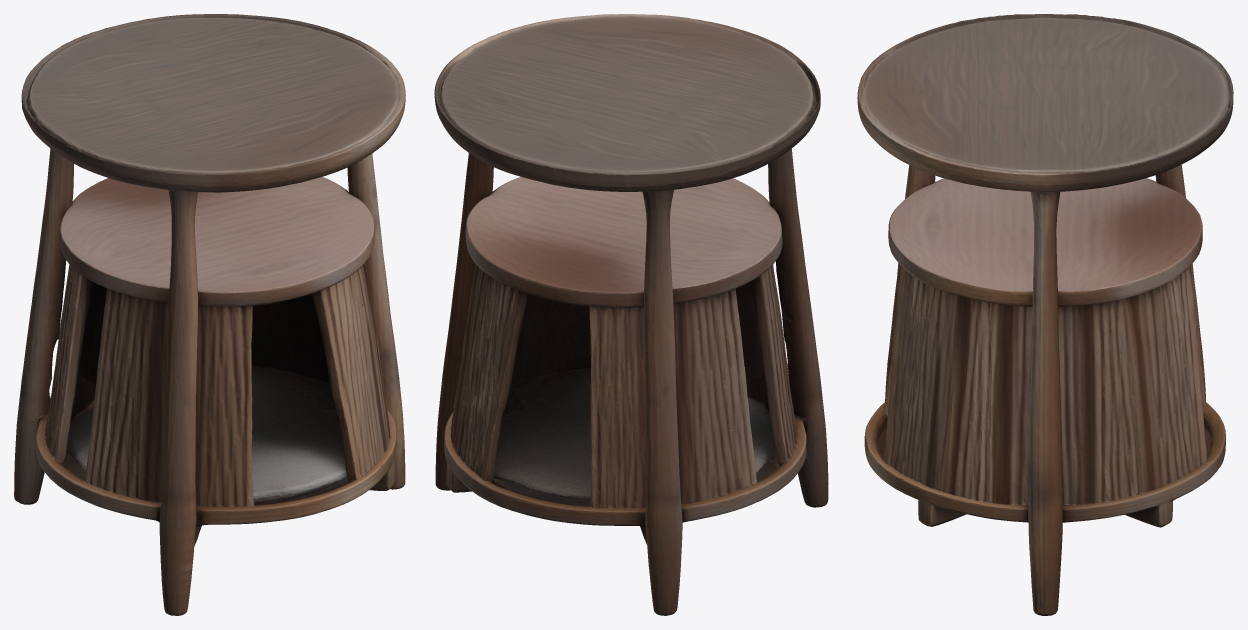
3 views of the same model, side by side, from view 1: azimuth 30°, elevation 25°; view 2: azimuth 150°, elevation 25°; view 3: azimuth 270°, elevation 25° (orthographic).
Parts seen in each view (by area): view 1: world; view 2: world; view 3: world.
Boxes of the visible parts, x1,y1,x2,y2 form: world: [14, 14, 405, 615]; world: [434, 14, 828, 615]; world: [857, 14, 1233, 615].
Bounding box in the file's own units: 0.8522 × 1 × 0.7892.
1 material, 1 textured.
